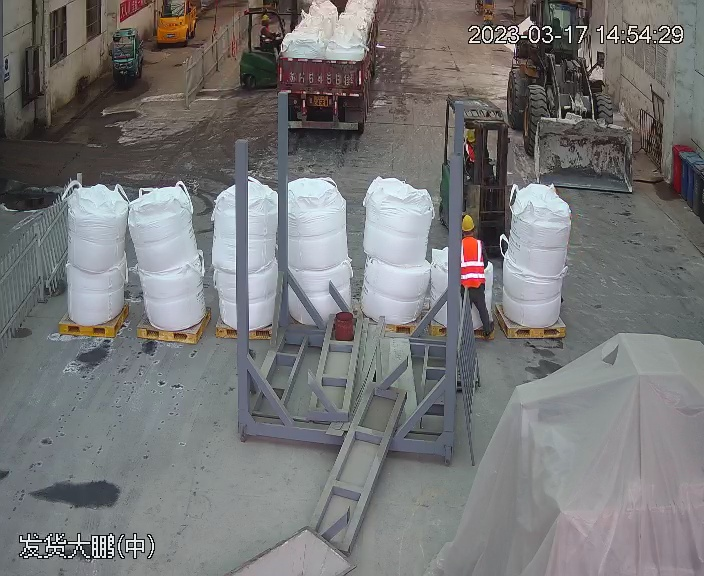head: (458, 215, 486, 254)
helmet: (461, 214, 476, 231)
people: (454, 209, 500, 338)
truck: (275, 1, 388, 133)
